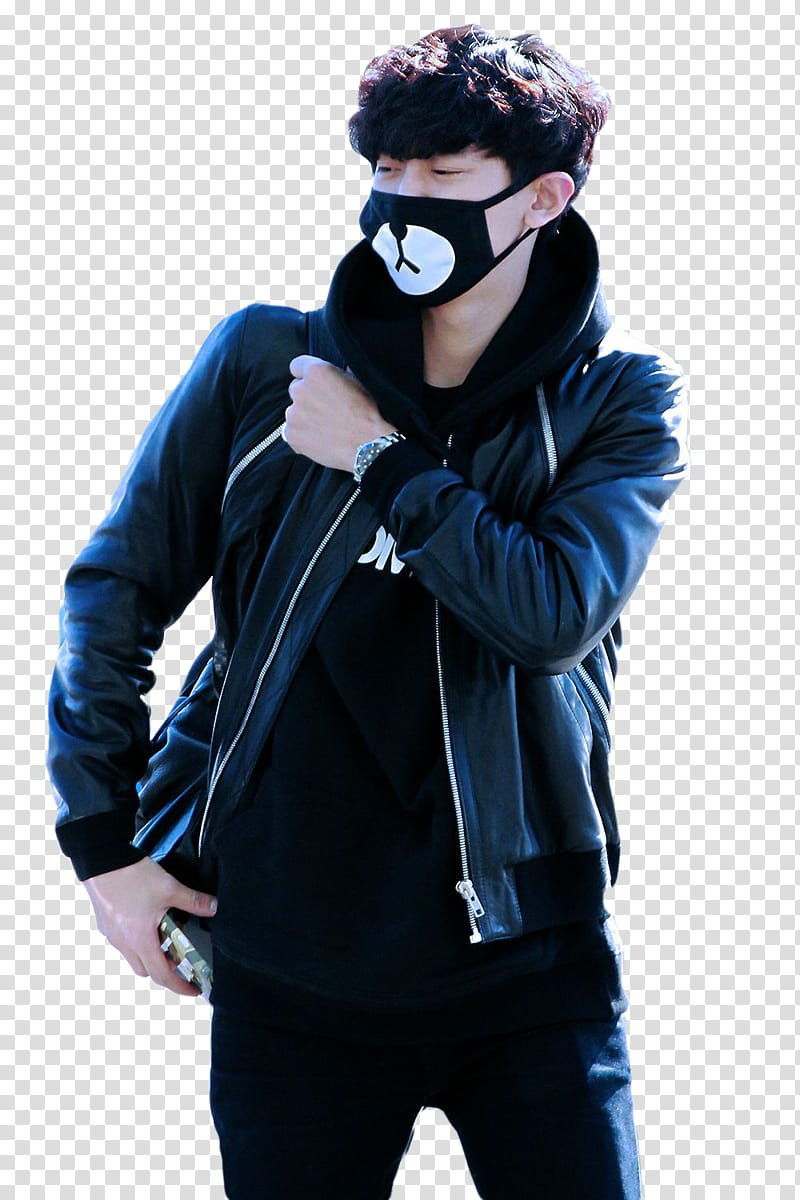mask: (303, 23, 612, 329)
